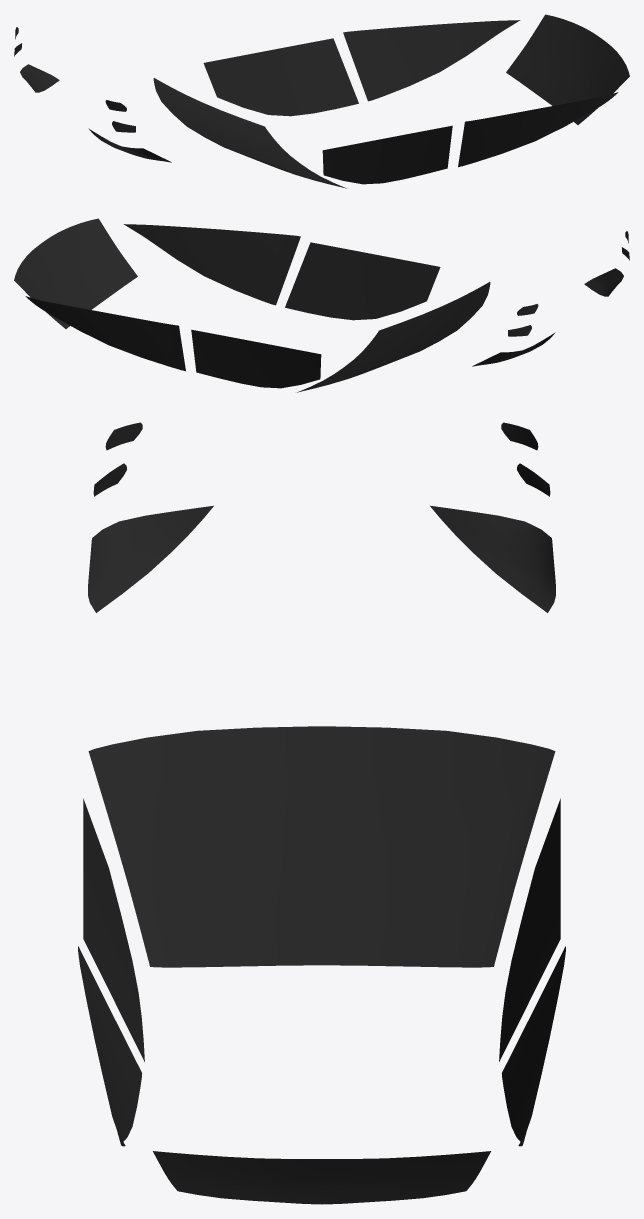
The model's file is FN_glass.obj.
3 views of the same model, one above another, from view 1: azimuth 30°, elevation 25°; view 2: azimuth 150°, elevation 25°; view 3: azimuth 270°, elevation 25° (orthographic). The views are drawn at different scales.
Size of the model in its own units: 3.89 by 1.06 by 1.52.
Materials: 1 (1 with a texture image).
